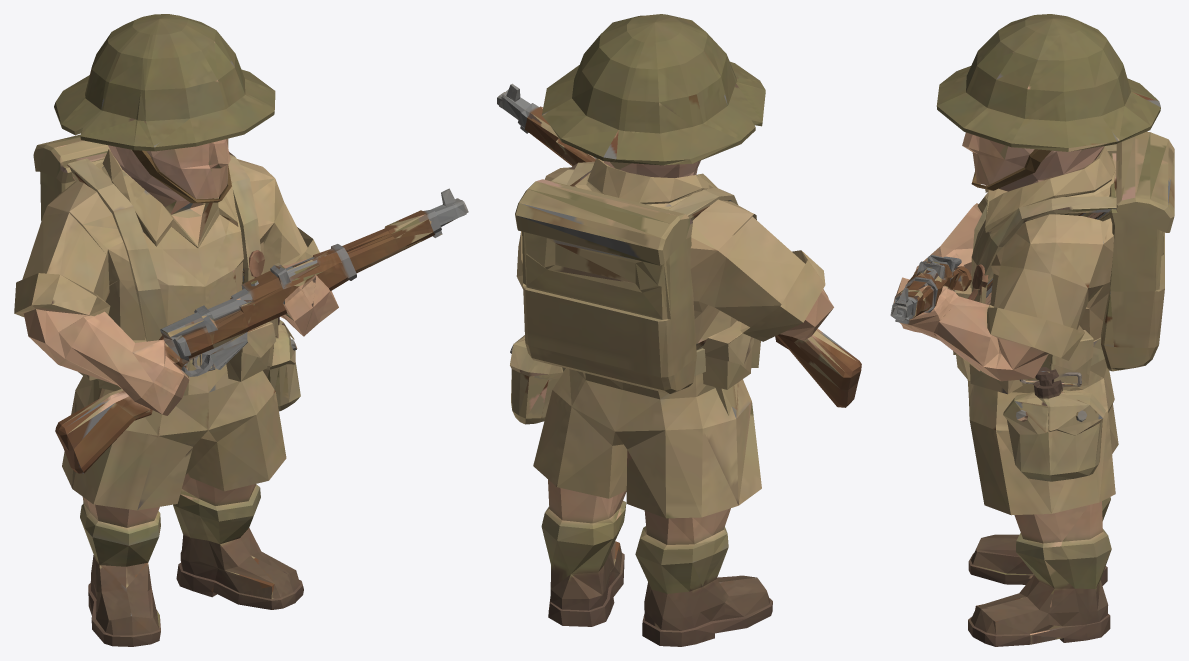
Rendered from sicily_british_inf_0.glb.
The picture shows the model from 3 angles, left to right: view 1: azimuth 30°, elevation 25°; view 2: azimuth 150°, elevation 25°; view 3: azimuth 270°, elevation 25°; orthographic projection. The views are drawn at different scales.
Visible parts, largest first — view 1: geometry_0; view 2: geometry_0; view 3: geometry_0.
Boxes of the visible parts, bbox=[...] form: geometry_0: bbox=[14, 14, 468, 646]; geometry_0: bbox=[497, 14, 861, 646]; geometry_0: bbox=[890, 14, 1174, 646].
Bounding box in the file's own units: 0.2204 × 0.324 × 0.1436.
Materials: 1 (1 with a texture image).
